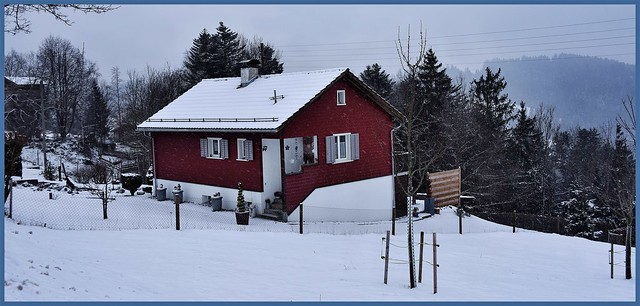low: (132, 66, 418, 226)
